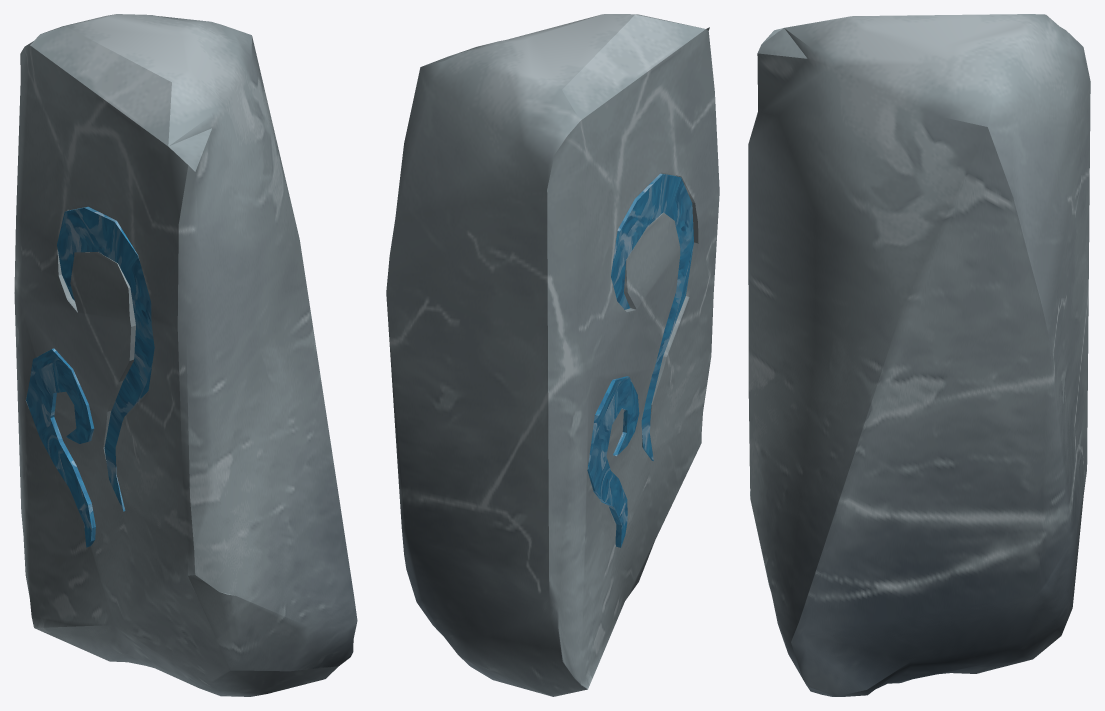
The model's file is t_skala_1.obj.
3 renders of one model, left to right at view 1: azimuth 30°, elevation 25°; view 2: azimuth 150°, elevation 25°; view 3: azimuth 270°, elevation 25°, orthographic.
Parts seen in each view (by area): view 1: t_skala_1; view 2: t_skala_1; view 3: t_skala_1.
Boxes of the visible parts, left/top/right/bottom form: t_skala_1: left=14, top=14, right=357, bottom=696; t_skala_1: left=386, top=14, right=719, bottom=696; t_skala_1: left=748, top=14, right=1090, bottom=696.
Bounding box in the file's own units: 6.76 × 19.24 × 9.52.
Materials: 2 (2 with a texture image).
